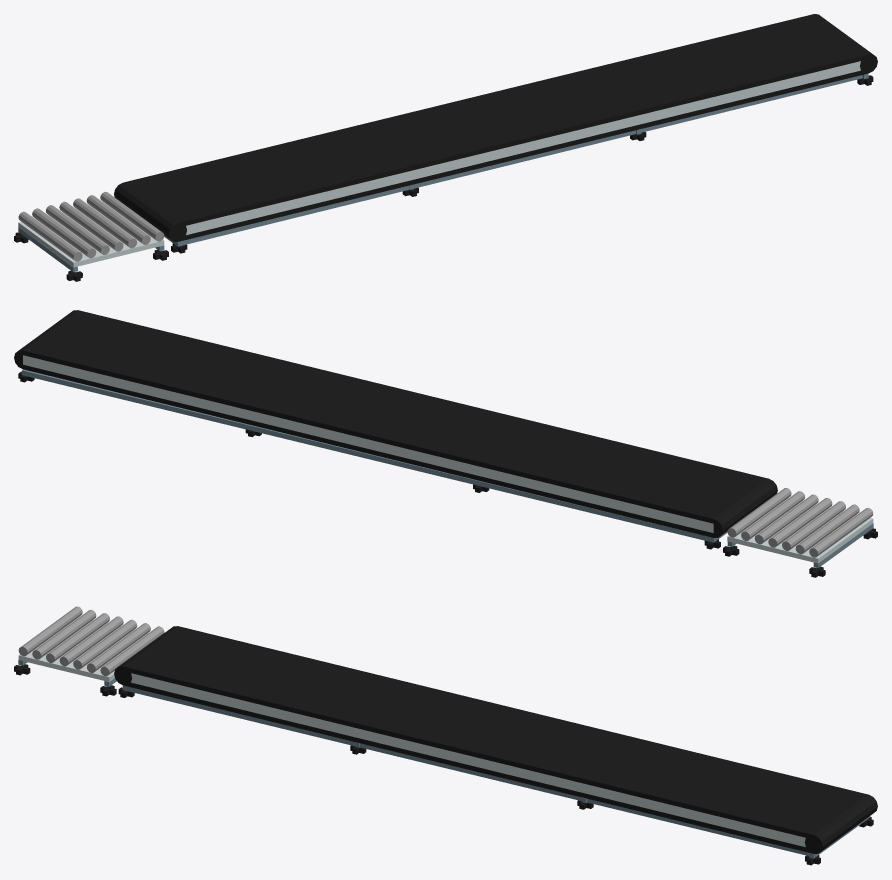
The model's file is editConveyor.glb.
3 views of the same model, one above another, from view 1: azimuth 30°, elevation 25°; view 2: azimuth 150°, elevation 25°; view 3: azimuth 330°, elevation 25° (orthographic).
Parts seen in each view (by area): view 1: group512570650, group161396369, group160355870, group810781124, group848837919, group1508755916, group494692606, group271065018, group1400634884, group2015598450, group1841975321, group1807440170 (+1 smaller); view 2: group512570650, group161396369, group37982561, group160355870, group848837919, group1508755916, group1400634884, group1841975321, group494692606, group1807440170, group271065018, group2015598450 (+1 smaller); view 3: group512570650, group161396369, group160355870, group810781124, group884165777, group848837919, group1841975321, group1400634884, group494692606, group271065018, group2015598450, group1738671895 (+1 smaller).
Part boxes in pixels (x1,y1,x2,y2): group512570650: (123,14,868,225); group161396369: (186,61,860,235); group160355870: (178,68,868,241); group810781124: (182,75,862,245); group848837919: (18,202,164,267); group1508755916: (114,183,186,241); group494692606: (32,208,96,258); group271065018: (18,211,82,261); group1400634884: (73,198,136,248); group2015598450: (86,195,150,244); group1841975321: (59,201,123,251); group1807440170: (100,192,164,241); group512570650: (23,310,768,523); group161396369: (23,355,713,532); group37982561: (21,369,713,542); group160355870: (24,366,712,537); group848837919: (727,498,873,563); group1508755916: (706,479,777,537); group1400634884: (754,494,818,544); group1841975321: (768,498,832,547); group494692606: (795,504,859,554); group1807440170: (727,488,791,537); group271065018: (809,507,873,557); group2015598450: (741,491,804,540); group512570650: (123,626,868,837); group161396369: (131,673,805,847); group160355870: (123,680,813,853); group810781124: (127,686,817,857); group884165777: (804,795,877,853); group848837919: (18,616,148,681); group1841975321: (59,616,123,666); group1400634884: (73,619,137,669); group494692606: (32,609,96,659); group271065018: (18,606,82,656); group2015598450: (87,623,150,672); group1738671895: (46,613,109,662).
Size of the model in its own units: 2.14 by 0.0797 by 0.2765.
